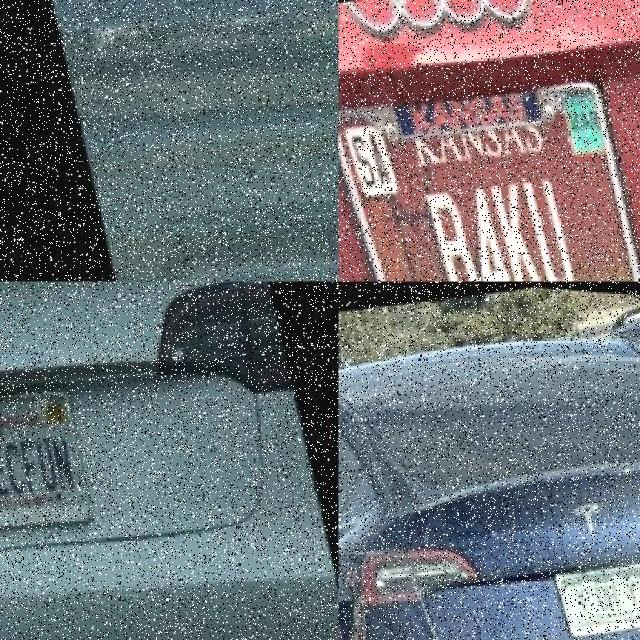licenseplate: (338, 76, 639, 282), (0, 369, 92, 541), (150, 0, 282, 66), (551, 554, 640, 634)
